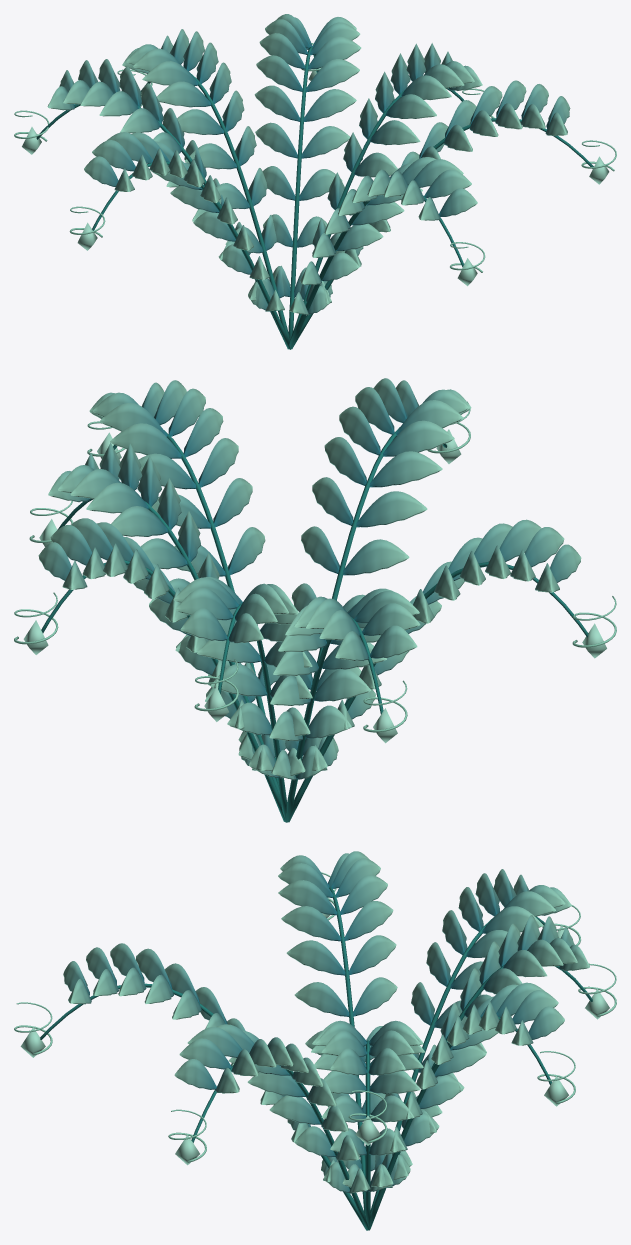
File: enchanted-starfern.glb
The picture shows the model from 3 angles, top to bottom: view 1: azimuth 30°, elevation 25°; view 2: azimuth 150°, elevation 25°; view 3: azimuth 270°, elevation 25°; orthographic projection. The views are drawn at different scales.
Visible parts, largest first — view 1: enchanted-starfern-sculpted-details; view 2: enchanted-starfern-sculpted-details; view 3: enchanted-starfern-sculpted-details.
Part boxes in pixels (box(x1,y1,x2,y2)): enchanted-starfern-sculpted-details: box(14, 14, 616, 349); enchanted-starfern-sculpted-details: box(14, 378, 616, 822); enchanted-starfern-sculpted-details: box(14, 851, 616, 1230).
Bounding box in the file's own units: 1.94 × 1 × 1.94.
